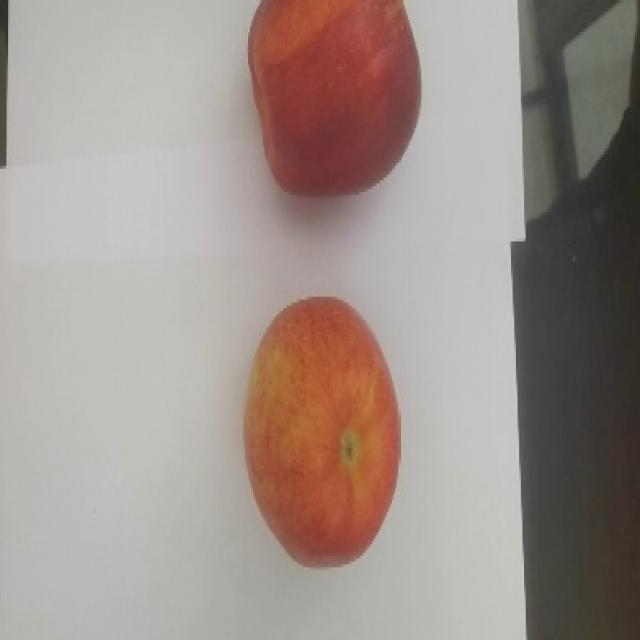Apple: (242, 295, 401, 568), (246, 0, 422, 197)
